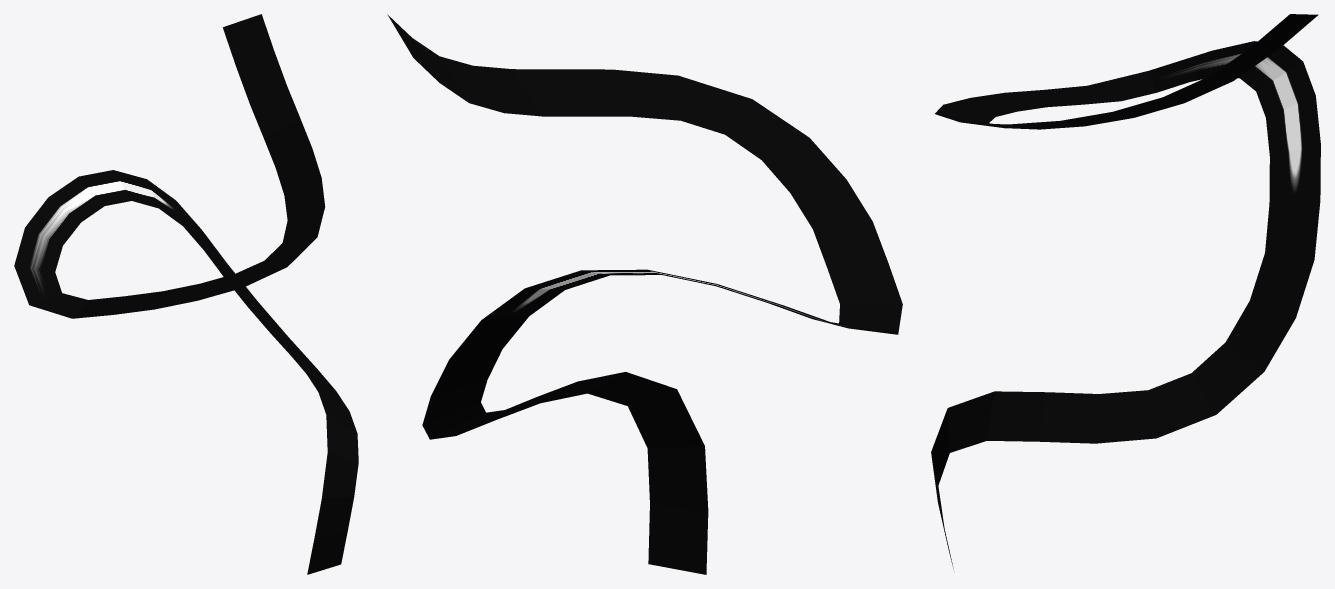
File: MD_RollerCoaster.fbx
The picture shows the model from 3 angles, left to right: view 1: azimuth 30°, elevation 25°; view 2: azimuth 150°, elevation 25°; view 3: azimuth 270°, elevation 25°; orthographic projection. The views are drawn at different scales.
Parts seen in each view (by area): view 1: Plane; view 2: Plane; view 3: Plane.
Boxes of the visible parts, bbox=[...] form: Plane: bbox=[14, 14, 358, 574]; Plane: bbox=[387, 14, 902, 574]; Plane: bbox=[931, 14, 1320, 568].
Size of the model in its own units: 3.46 by 5.09 by 3.04.
